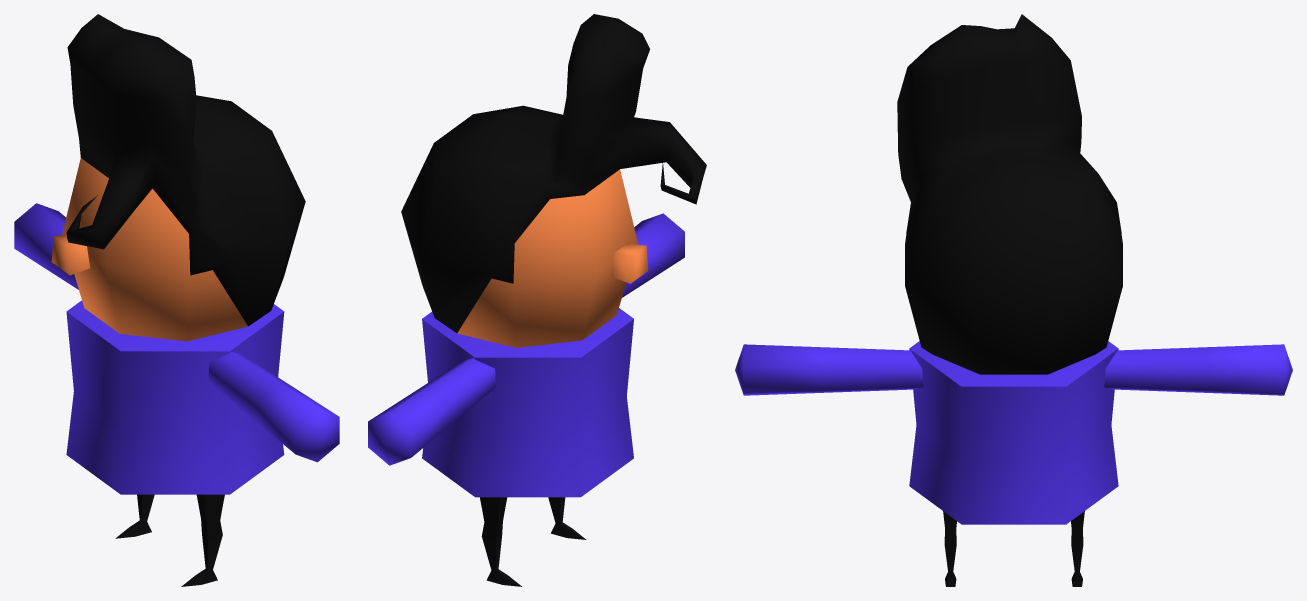
File: Michael Jackson.FBX
3 renders of one model, left to right at view 1: azimuth 30°, elevation 25°; view 2: azimuth 150°, elevation 25°; view 3: azimuth 270°, elevation 25°, orthographic. The views are drawn at different scales.
Visible parts, largest first — view 1: Michael Jackson, Michael Jackson hair; view 2: Michael Jackson, Michael Jackson hair; view 3: Michael Jackson hair, Michael Jackson.
Part boxes in pixels (box(x1,y1,x2,y2)): Michael Jackson: box(14, 158, 339, 586); Michael Jackson hair: box(66, 14, 305, 326); Michael Jackson: box(368, 169, 684, 586); Michael Jackson hair: box(401, 14, 706, 332); Michael Jackson hair: box(897, 14, 1122, 374); Michael Jackson: box(735, 341, 1292, 586).
Size of the model in its own units: 1.26 by 2.69 by 2.55.
